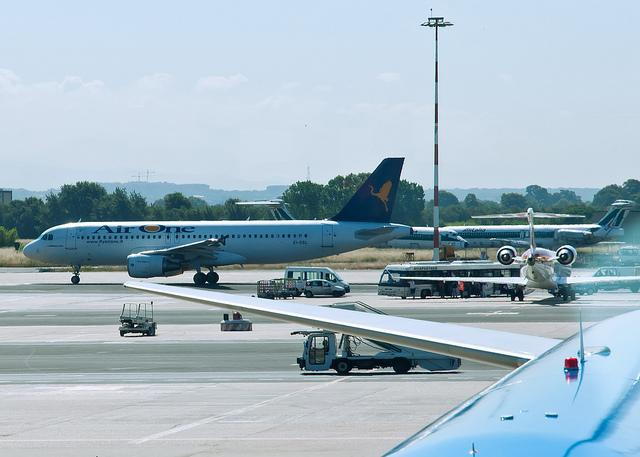airplane: (18, 156, 418, 288), (400, 210, 640, 309), (454, 198, 637, 252), (413, 224, 468, 253)
